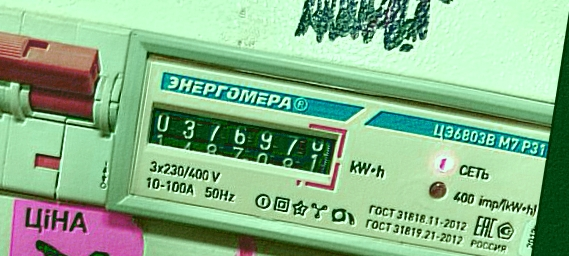0: (153, 109, 171, 133)
1: (306, 151, 320, 173)
3: (180, 117, 198, 140)
6: (231, 121, 250, 146)
7: (205, 118, 224, 144), (282, 132, 300, 157)
9: (257, 127, 274, 151)
screen: (134, 87, 352, 194)
